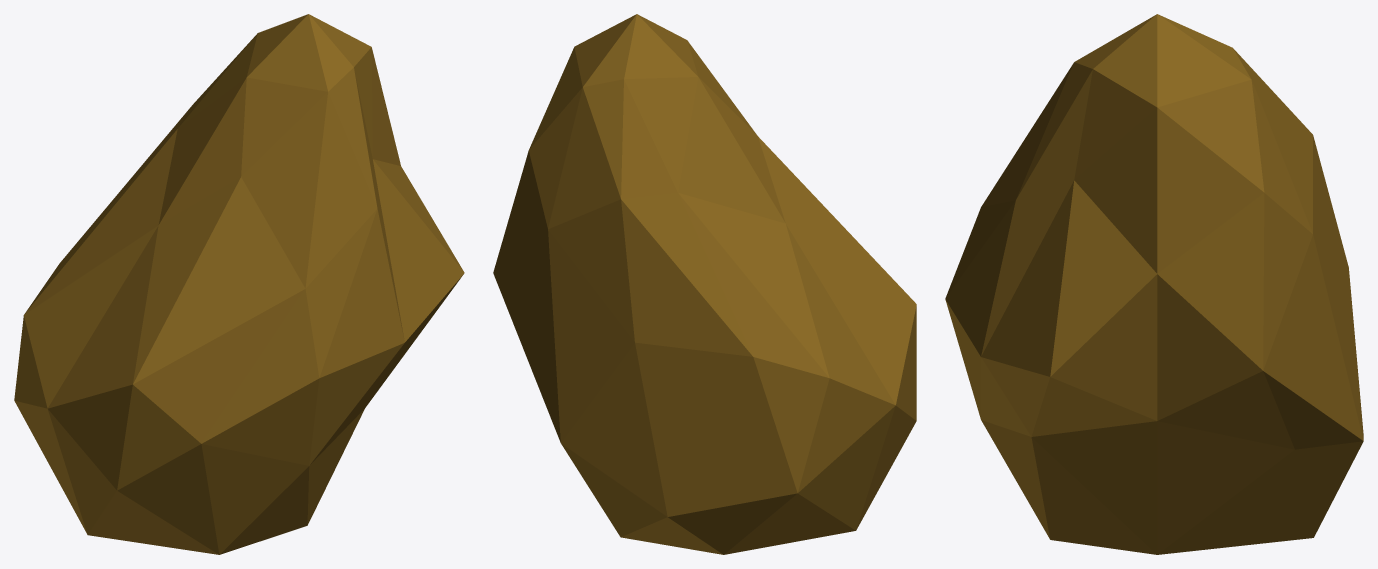
3 renders of one model, left to right at view 1: azimuth 30°, elevation 25°; view 2: azimuth 150°, elevation 25°; view 3: azimuth 270°, elevation 25°, orthographic. The views are drawn at different scales.
Visible parts, largest first — view 1: GeoSphere012; view 2: GeoSphere012; view 3: GeoSphere012.
Boxes of the visible parts, left/top/right/bottom form: GeoSphere012: left=14, top=14, right=464, bottom=554; GeoSphere012: left=493, top=14, right=916, bottom=554; GeoSphere012: left=945, top=14, right=1363, bottom=554.
Size of the model in its own units: 17.73 by 21.31 by 14.61.
